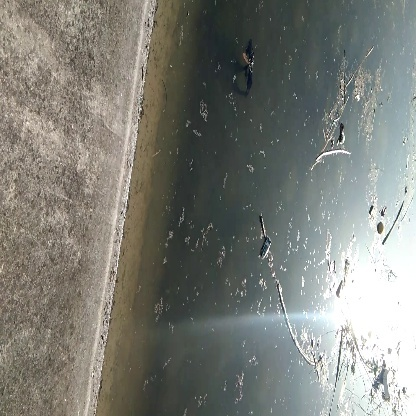branch: (276, 279, 326, 370), (314, 148, 353, 168)
